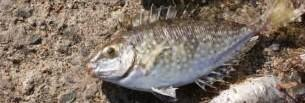fish: (89, 0, 304, 100)
